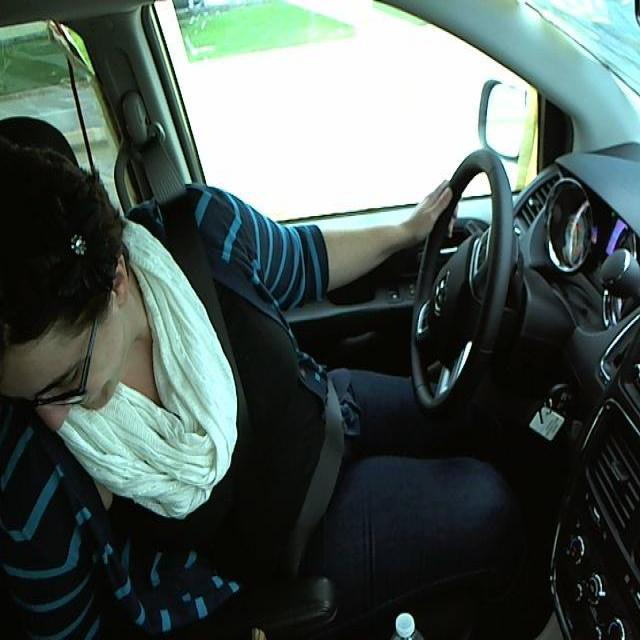seatbelt: (179, 247, 342, 581)
